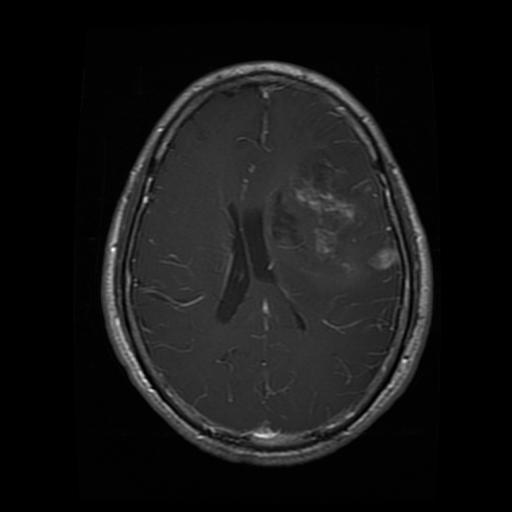Gliomia_tumour: (267, 151, 396, 282)
